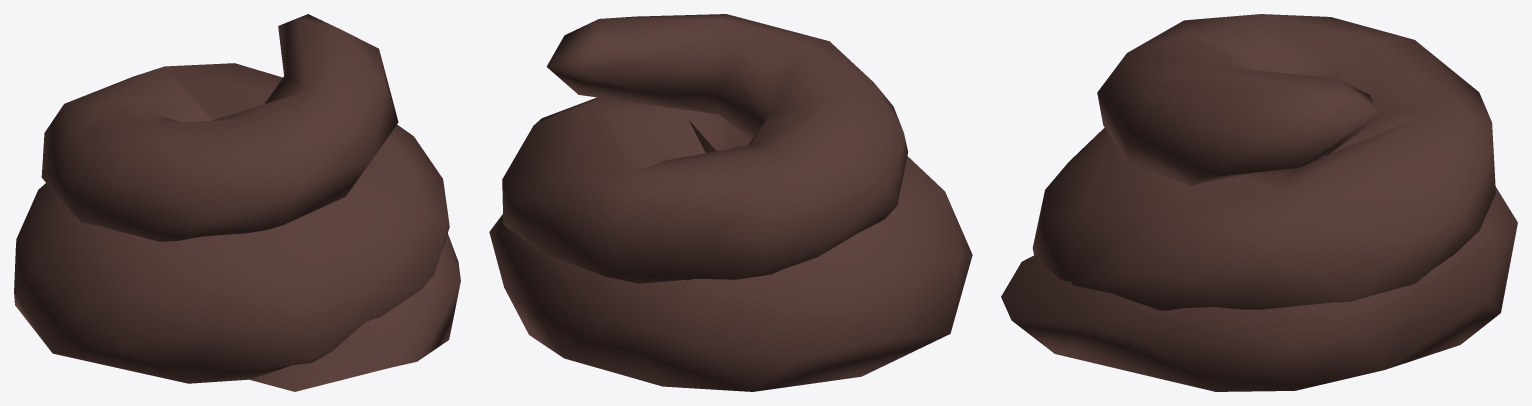
Rendered from poo.fbx.
3 renders of one model, left to right at view 1: azimuth 30°, elevation 25°; view 2: azimuth 150°, elevation 25°; view 3: azimuth 270°, elevation 25°, orthographic. The views are drawn at different scales.
Visible parts, largest first — view 1: Poo; view 2: Poo; view 3: Poo.
Part boxes in pixels (left/top/right/bottom): Poo: left=14, top=14, right=460, bottom=391; Poo: left=489, top=14, right=972, bottom=391; Poo: left=1001, top=14, right=1517, bottom=391.
Bounding box in the file's own units: 81.06 × 46.98 × 83.99.
